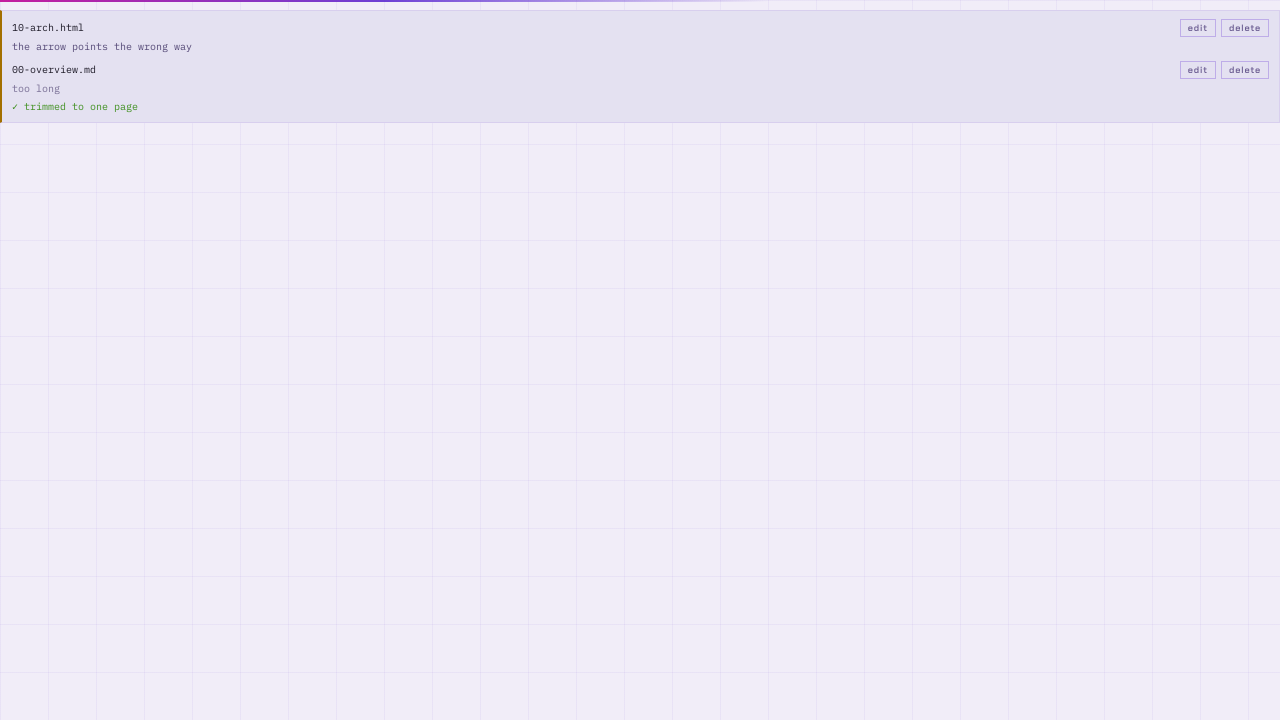
FeedbackPanel › edits in place and saves the trimmed text
Click the button with class "fb-edit" in the row of "10-arch.html" at {"x": 1198, "y": 28}, box [1180, 19, 1216, 37]
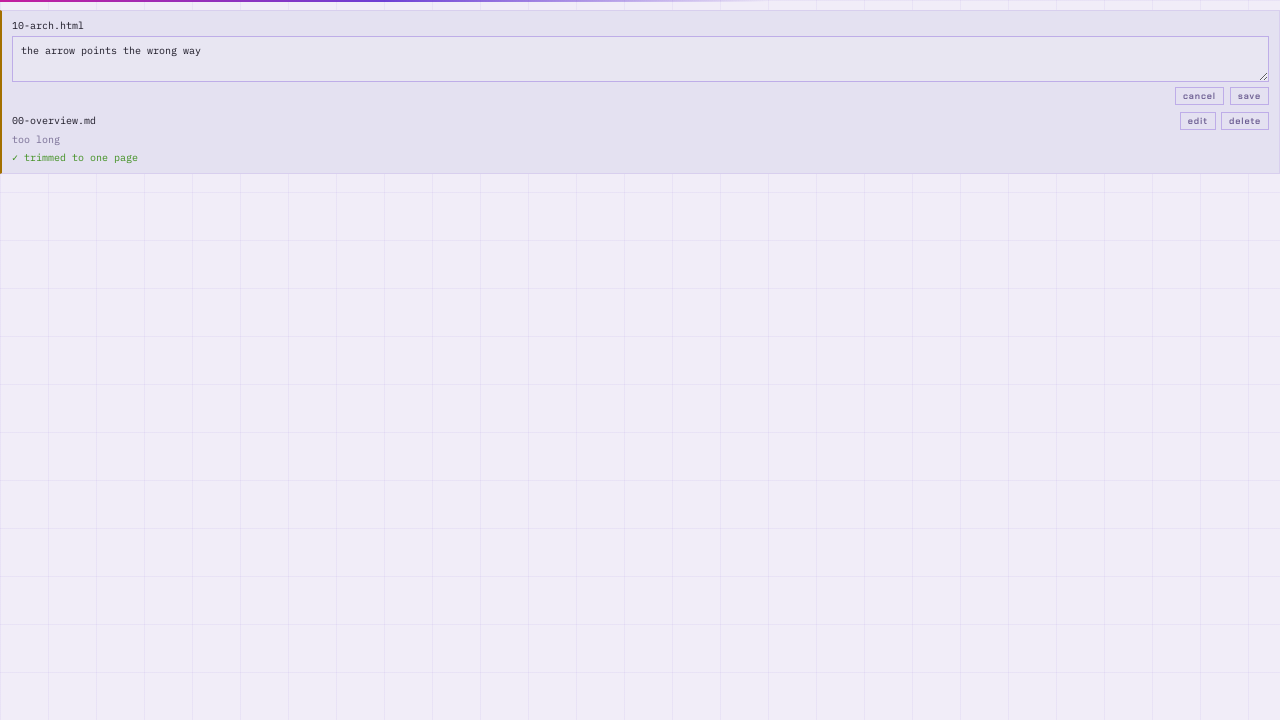
Now the text box with class "fb-edit-input" holds "the arrow points the wrong way"
Replace the text in the text box with class "fb-edit-input" with "  points the wrong way  " at {"x": 640, "y": 59}, box [12, 36, 1269, 82]
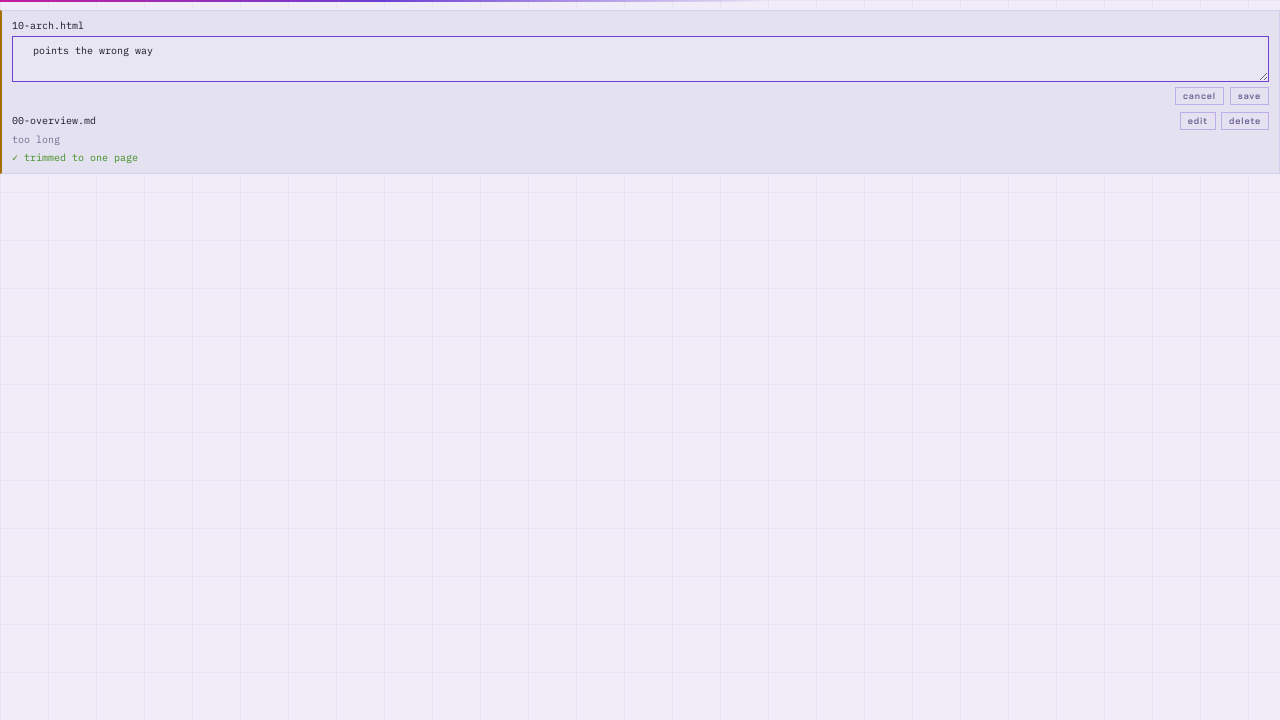
Click the button with class "fb-save" at {"x": 1250, "y": 96}, box [1230, 87, 1269, 105]
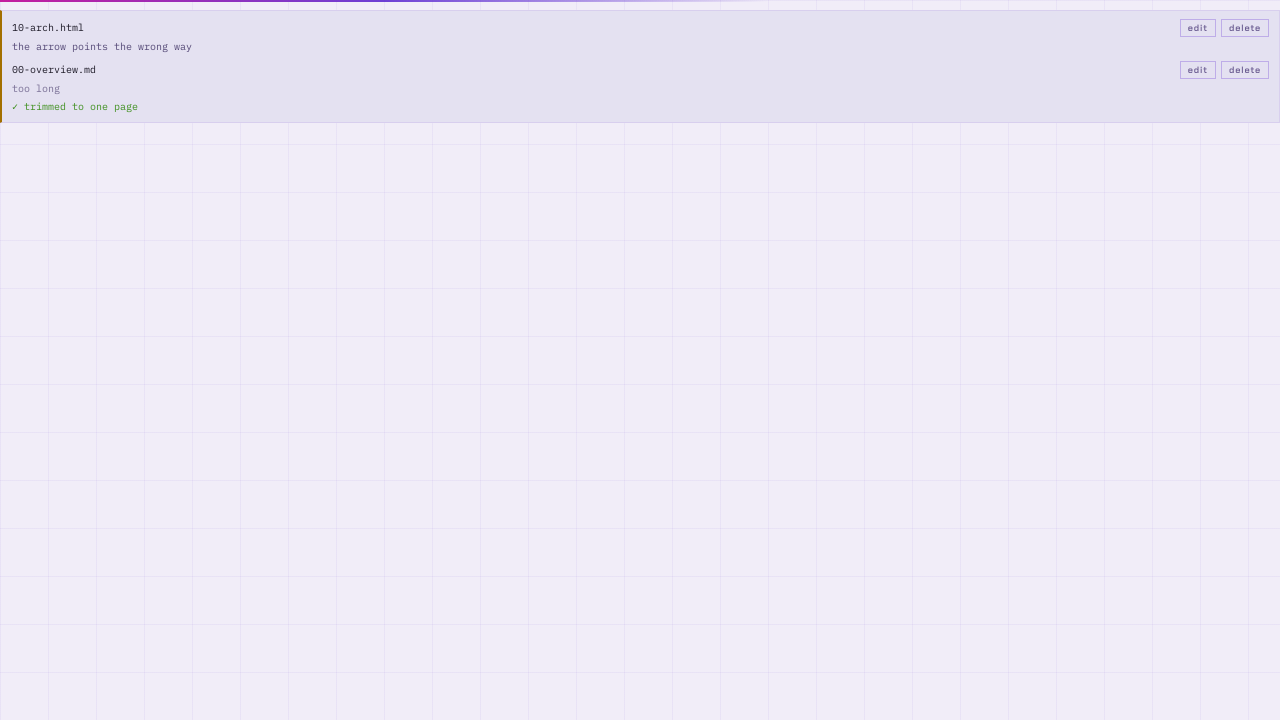
Now the text box with class "fb-edit-input" is gone
